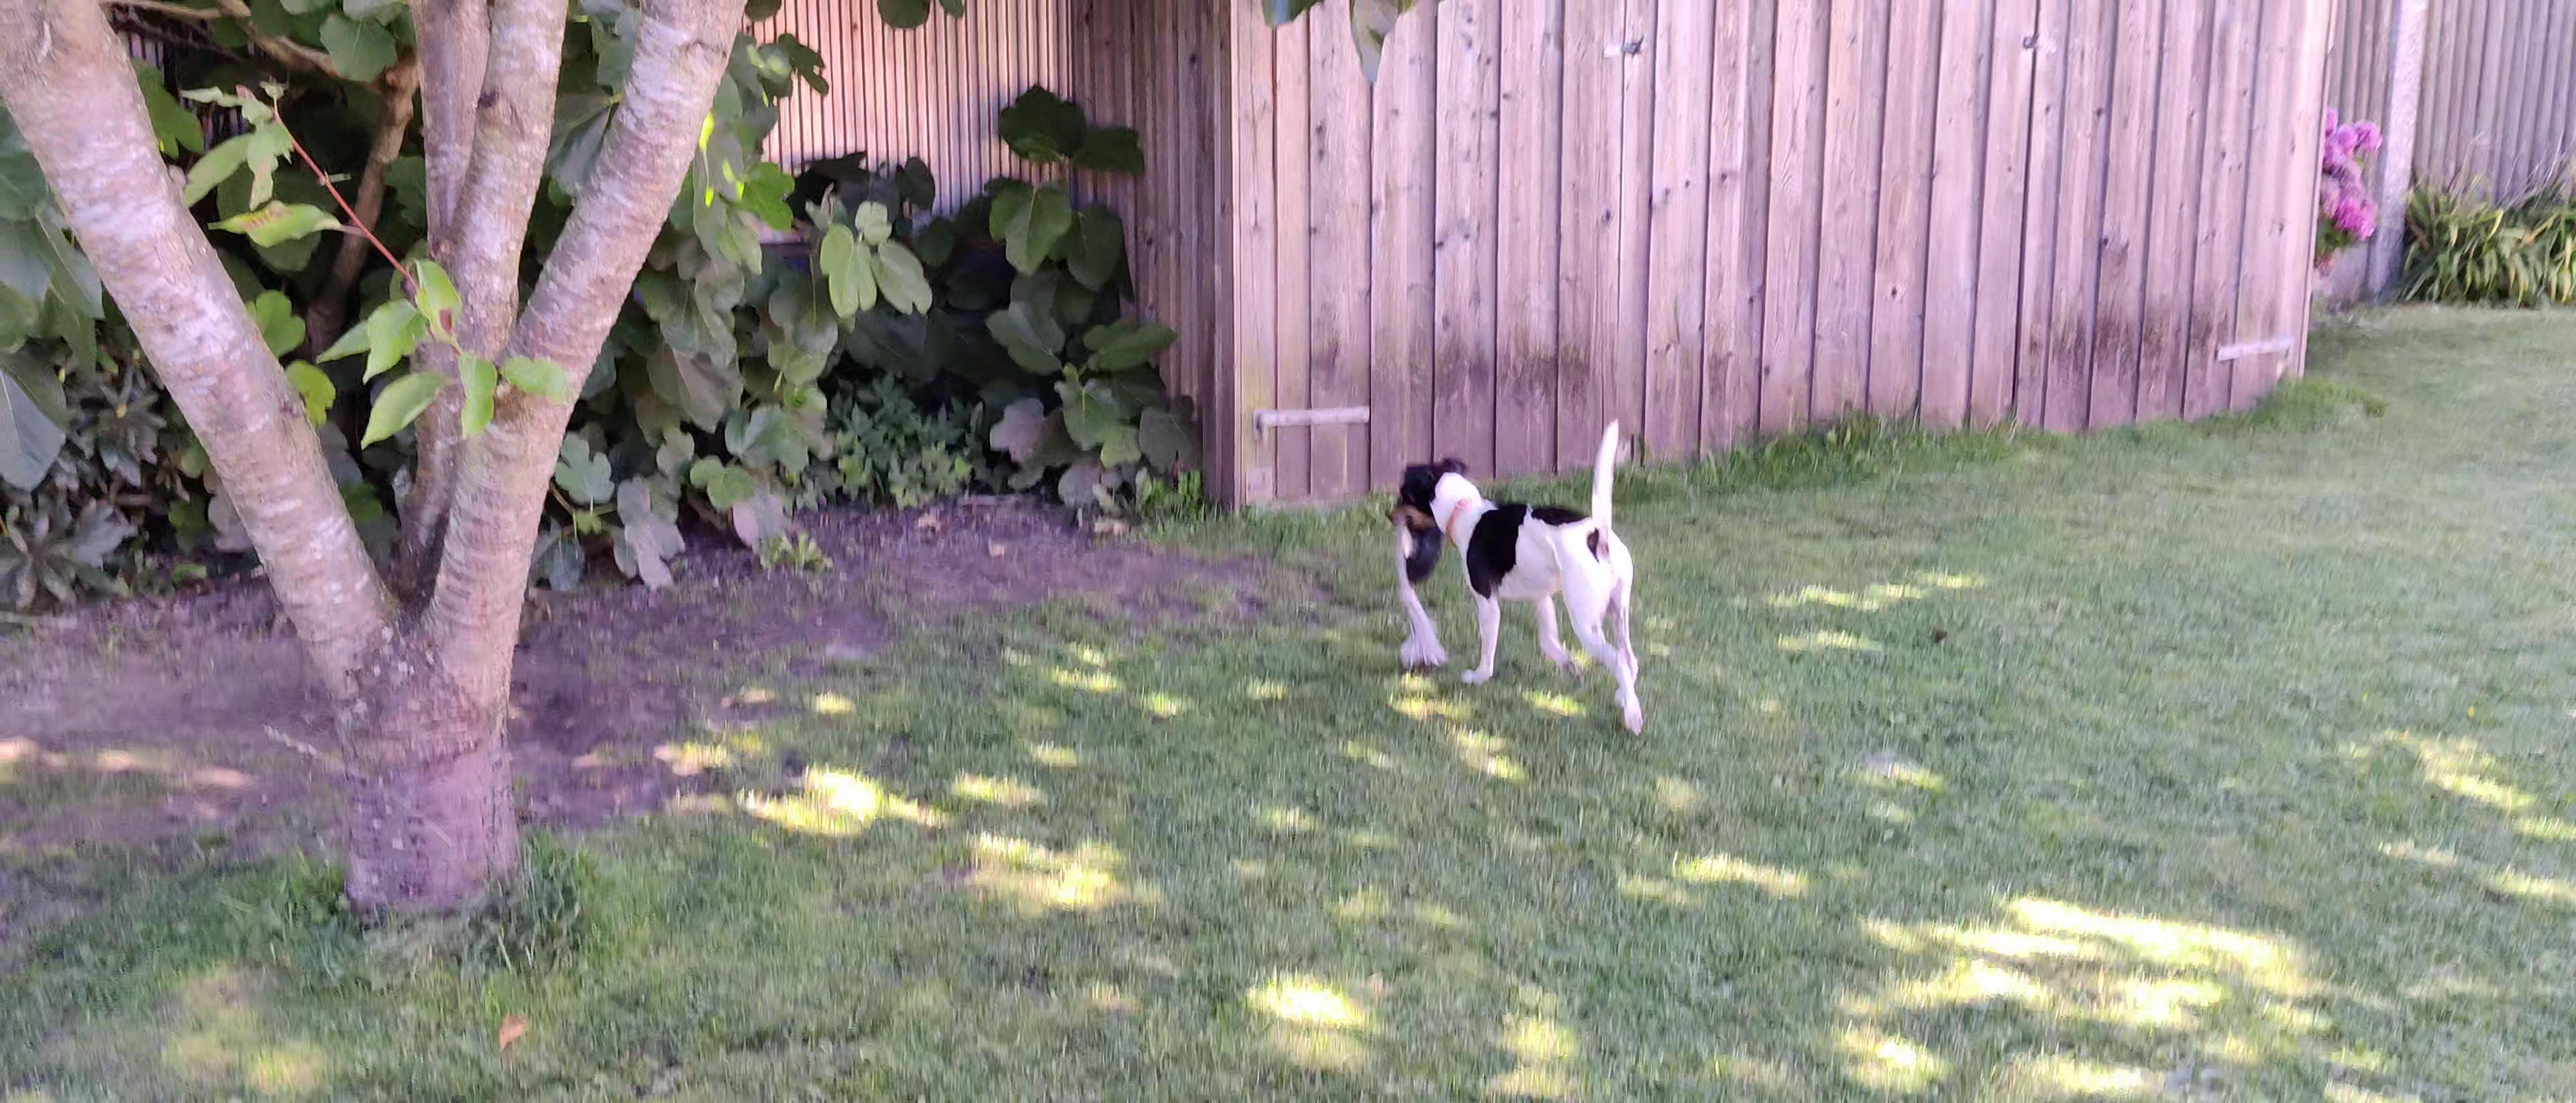Dog: (1378, 416, 1654, 738)
